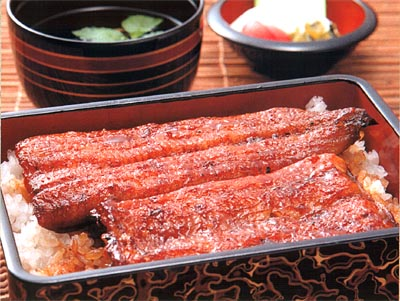eels on rice: (3, 70, 397, 301)
